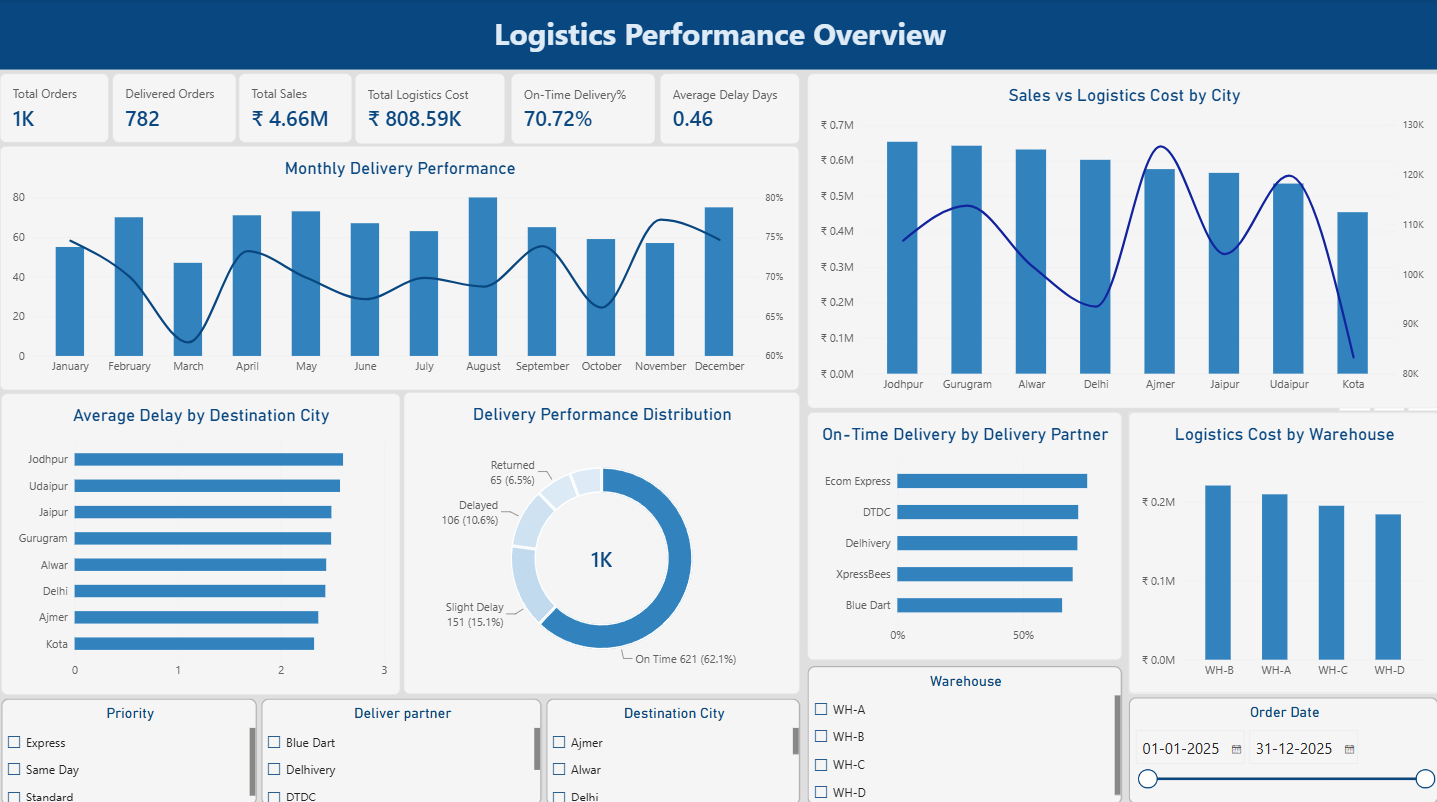

The dashboard page shown, as its layout file describes it:
{"tool":"powerbi","page":{"name":"Logistics Performance Overview","canvas":[1920,1080],"ordinal":0},"visuals":[{"type":"cardVisual","fields":{"Data":["Logistics_Data.Total Orders"]},"box":[0,103.8,145,92.5],"z":0},{"type":"cardVisual","fields":{"Data":["Logistics_Data.Total Sales"]},"box":[319,103.8,151.9,92.4],"z":1000},{"type":"cardVisual","fields":{"Data":["Logistics_Data.Delivered Orders"]},"box":[149.5,103.8,165,92.5],"z":2000},{"type":"cardVisual","fields":{"Data":["Logistics_Data.Total Logistics Cost"]},"box":[474,103,200,94],"z":3000},{"type":"cardVisual","fields":{"Data":["Logistics_Data.On-Time Delivery%"]},"box":[681,103,192,94],"z":4000},{"type":"cardVisual","fields":{"Data":["Logistics_Data.Average Delay Days"]},"box":[880,104,186,94],"z":5000},{"type":"lineClusteredColumnComboChart","title":"Monthly Delivery Performance","fields":{"Category":["Logistics_Data.Order_Date.Variation.Date Hierarchy.Month"],"Y":["Logistics_Data.Delivered Orders"],"Y2":["Logistics_Data.On-Time Delivery%"]},"box":[0,200,1065.7,325.7],"z":6000},{"type":"barChart","title":"On-Time Delivery by Delivery Partner","fields":{"Category":["Logistics_Data.Delivery_Partner"],"Y":["Logistics_Data.On-Time Delivery%"]},"box":[1076.2,554.6,419.2,330],"z":7000},{"type":"barChart","title":"Average Delay by Destination City","fields":{"Category":["Logistics_Data.Destination_City"],"Y":["Logistics_Data.Average Delivery Days"]},"box":[0.8,529.2,531.7,401.7],"z":8000},{"type":"columnChart","title":"Logistics Cost by Warehouse","fields":{"Category":["Logistics_Data.Warehouse"],"Y":["Logistics_Data.Total Logistics Cost"]},"box":[1505.7,554.3,414.3,375.7],"z":9000},{"type":"donutChart","title":"Delivery Performance Distribution","fields":{"Category":["Logistics_Data.Delivery_Performance"],"Y":["CountNonNull(Logistics_Data.Order_ID)"]},"box":[538.6,528.6,528,402],"z":10000},{"type":"lineClusteredColumnComboChart","title":"Sales vs Logistics Cost by City","fields":{"Category":["Logistics_Data.Destination_City"],"Y":["Logistics_Data.Total Sales"],"Y2":["Sum(Logistics_Data.Total_Logistics_Cost)"]},"box":[1076,104,844,446],"z":11000},{"type":"shape","box":[0,0,1920.4,98.1],"z":12000},{"type":"slicer","title":"Order Date","fields":{"Values":["Logistics_Data.Order_Date"]},"box":[1505.7,935.7,412.9,144.3],"z":13000},{"type":"slicer","title":"Warehouse","fields":{"Values":["Logistics_Data.Warehouse"]},"box":[1076.4,892.7,419.1,186.4],"z":14000},{"type":"slicer","title":"Destination City","fields":{"Values":["Logistics_Data.Destination_City"]},"box":[728,936,338,144],"z":15000},{"type":"slicer","title":"Deliver partner","fields":{"Values":["Logistics_Data.Delivery_Partner"]},"box":[347.7,936.2,373.8,143.8],"z":16000},{"type":"slicer","title":"Priority","fields":{"Values":["Logistics_Data.Priority"]},"box":[1.8,936.4,340.9,143.6],"z":17000}]}

Visuals, with their boxes in screenshot pixels (x1, y1, x2, y2), scaled from the page's 1920x1080 canvas onto the 1437x802 screenshot:
cardVisual - Logistics_Data.Total Orders: (0, 77, 109, 146)
cardVisual - Logistics_Data.Total Sales: (239, 77, 352, 146)
cardVisual - Logistics_Data.Delivered Orders: (112, 77, 235, 146)
cardVisual - Logistics_Data.Total Logistics Cost: (355, 76, 504, 146)
cardVisual - Logistics_Data.On-Time Delivery%: (510, 76, 653, 146)
cardVisual - Logistics_Data.Average Delay Days: (659, 77, 798, 147)
"Monthly Delivery Performance" lineClusteredColumnComboChart: (0, 149, 798, 390)
"On-Time Delivery by Delivery Partner" barChart: (805, 412, 1119, 657)
"Average Delay by Destination City" barChart: (1, 393, 399, 691)
"Logistics Cost by Warehouse" columnChart: (1127, 412, 1436, 691)
"Delivery Performance Distribution" donutChart: (403, 393, 798, 691)
"Sales vs Logistics Cost by City" lineClusteredColumnComboChart: (805, 77, 1436, 408)
shape: (0, 0, 1436, 73)
"Order Date" slicer: (1127, 695, 1436, 801)
"Warehouse" slicer: (806, 663, 1119, 801)
"Destination City" slicer: (545, 695, 798, 801)
"Deliver partner" slicer: (260, 695, 540, 801)
"Priority" slicer: (1, 695, 256, 801)
